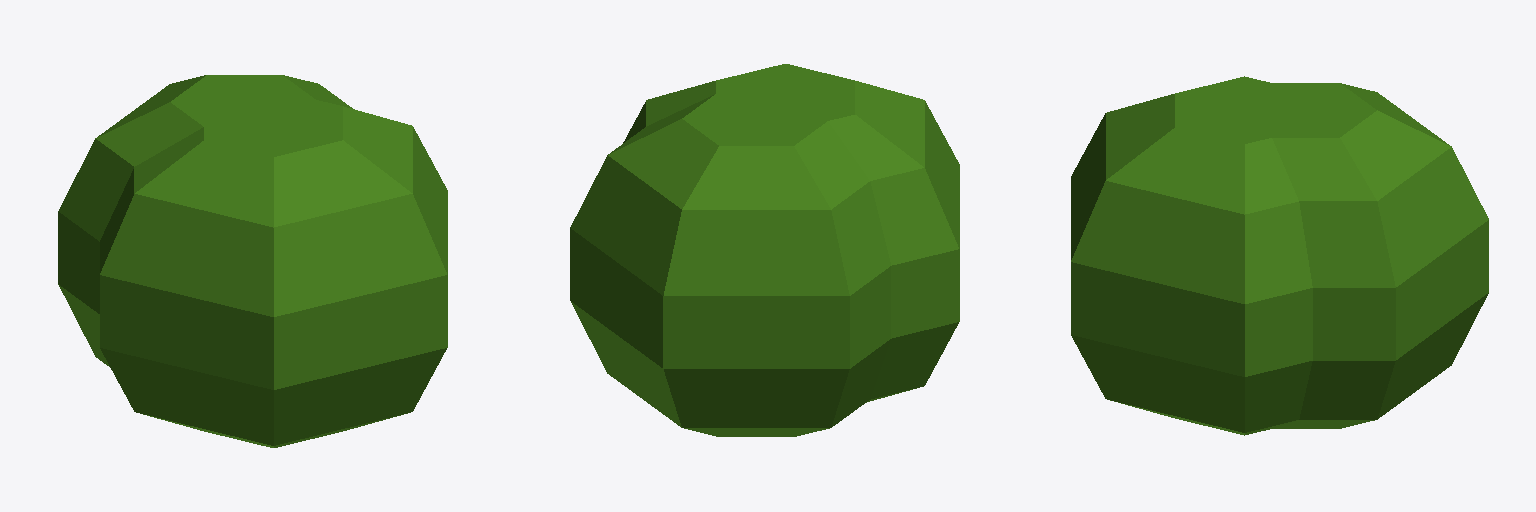
The model's file is Hilly_Prop_Bush_3.obj.
3 views of the same model, side by side, from view 1: azimuth 30°, elevation 25°; view 2: azimuth 150°, elevation 25°; view 3: azimuth 270°, elevation 25° (orthographic).
Parts seen in each view (by area): view 1: object1; view 2: object1; view 3: object1.
Part boxes in pixels (x1,y1,x2,y2): object1: (58,75,447,447); object1: (570,64,959,436); object1: (1071,76,1488,435).
Bounding box in the file's own units: 1 × 0.8 × 1.04.